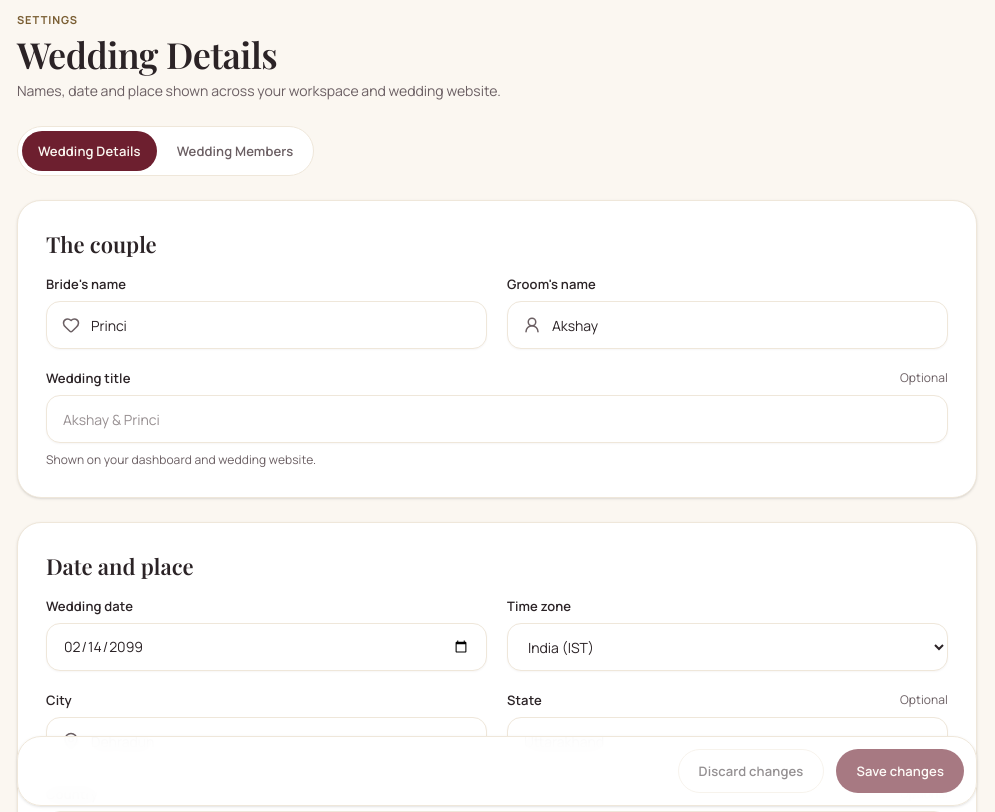
Test: <WeddingDetailsScreen /> › shows the server's date check on the date field
Type "2099-03-01" into the date field labelled "Wedding date".
click(266, 647); type("2099-03-01")  # box [46, 623, 487, 671]
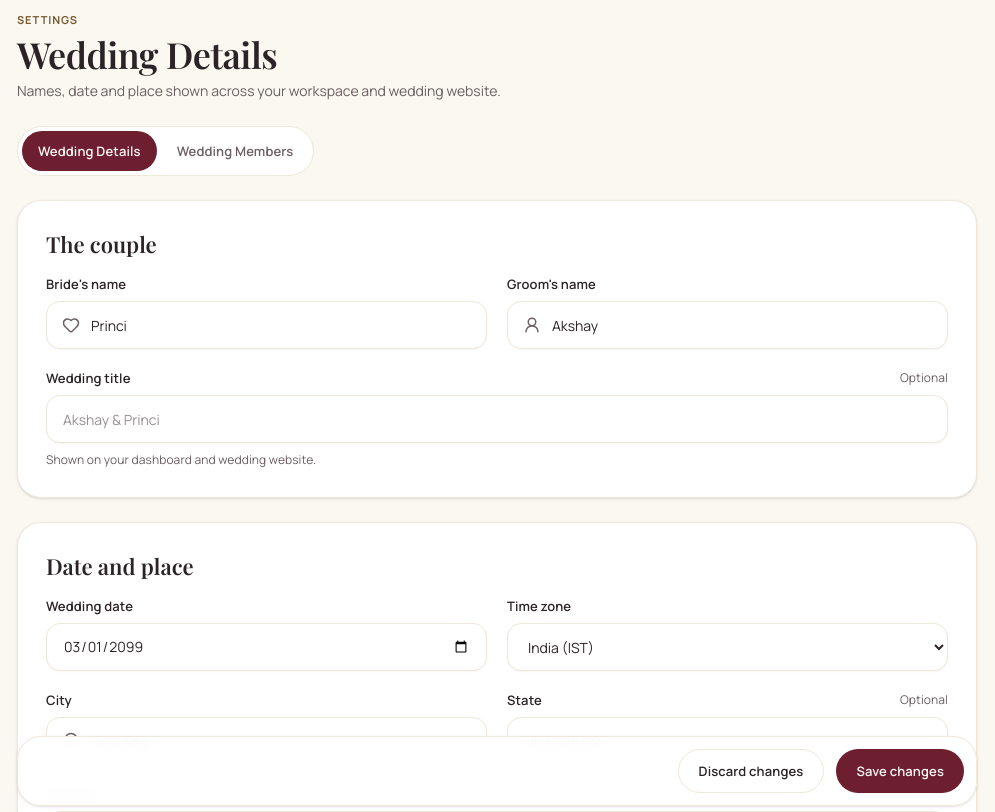
Click the button "Save changes".
click(900, 771)  # box [836, 749, 964, 793]
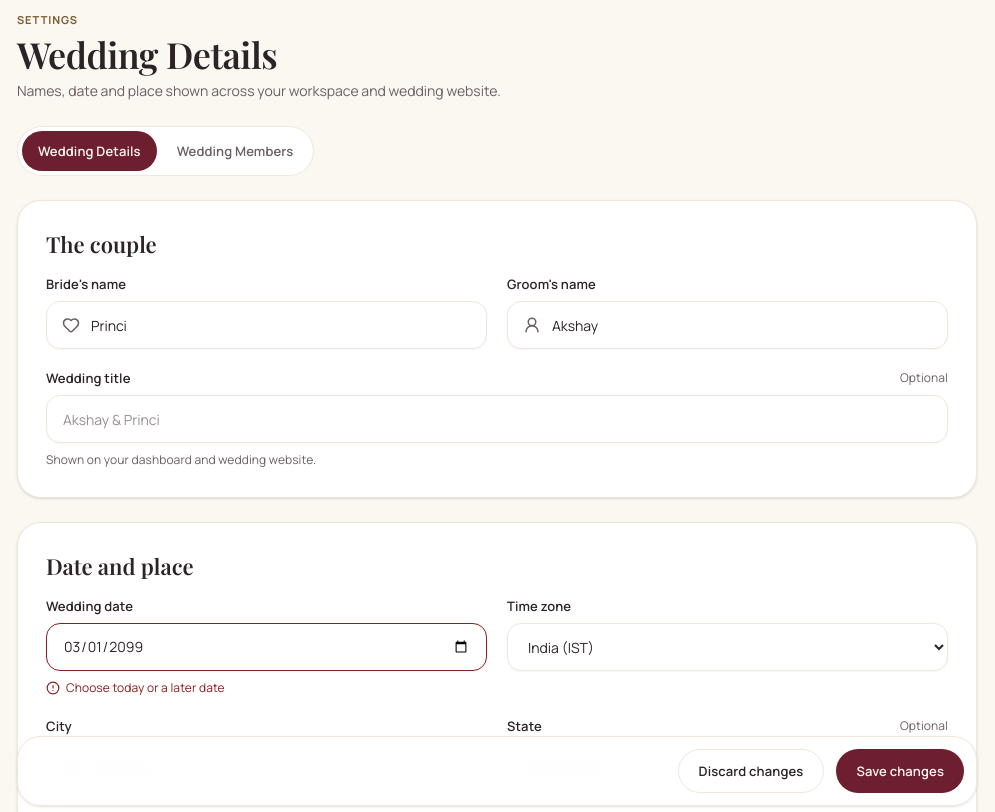
Result: the text "Choose today or a later date" is shown at [46, 679, 225, 696]
